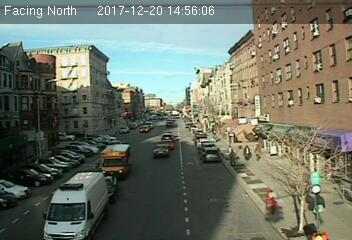car: (198, 147, 221, 162), (152, 144, 170, 157)
pedestrian: (253, 143, 264, 166), (242, 143, 252, 163)
truck: (42, 172, 113, 240), (99, 143, 135, 180)
